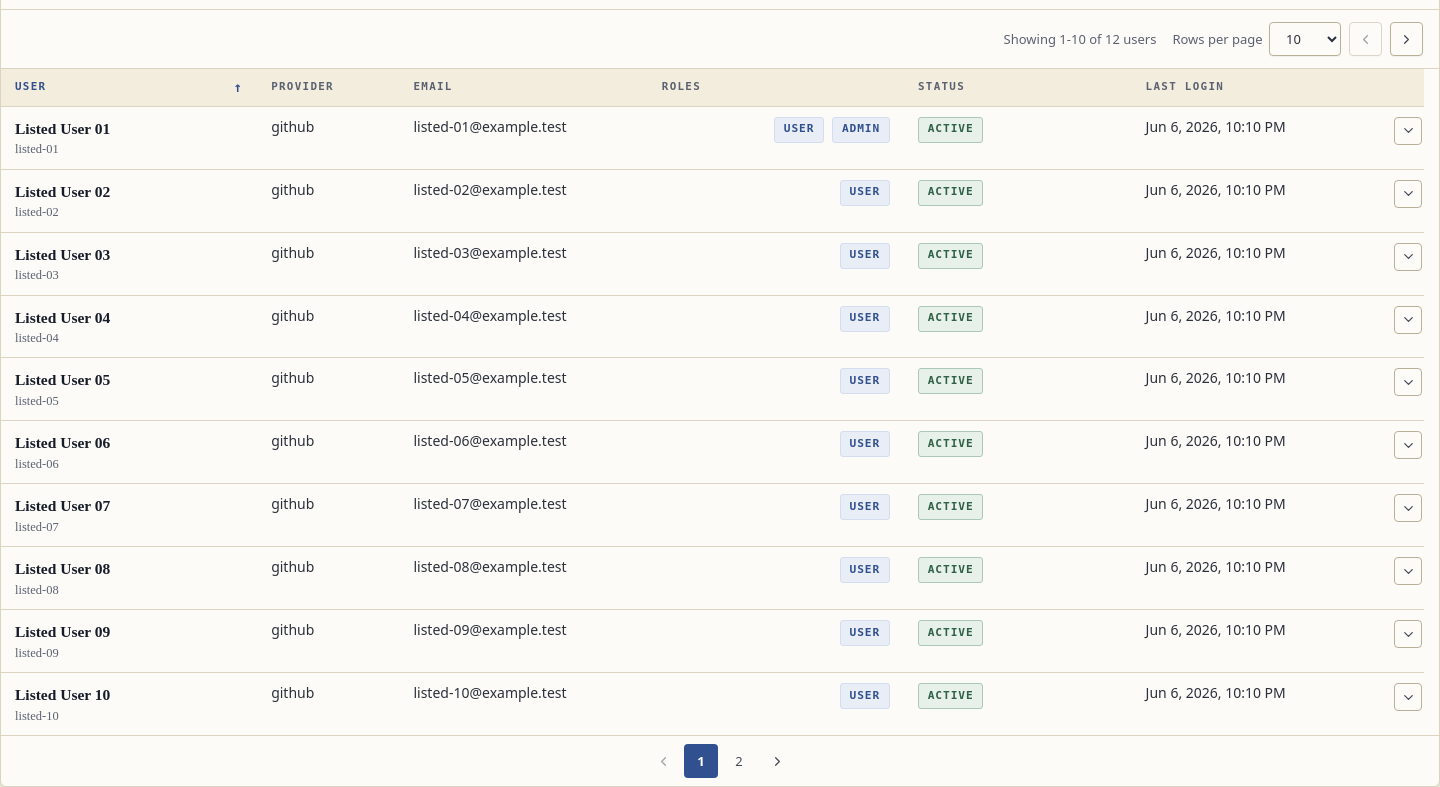
AdminUsersPage › filters, sorts, and paginates the user list client-side
This screenshot has width=1440, height=787.
(page scrolled)
Expected: the text "Listed User 01" is shown, [15,120,110,137]
Expected: the text "Showing 1-10 of 12 users" is shown, [1004,30,1156,49]
Click the button named "Page 2" at coordinates (739, 761), box [722,744,756,778]
(page scrolled)
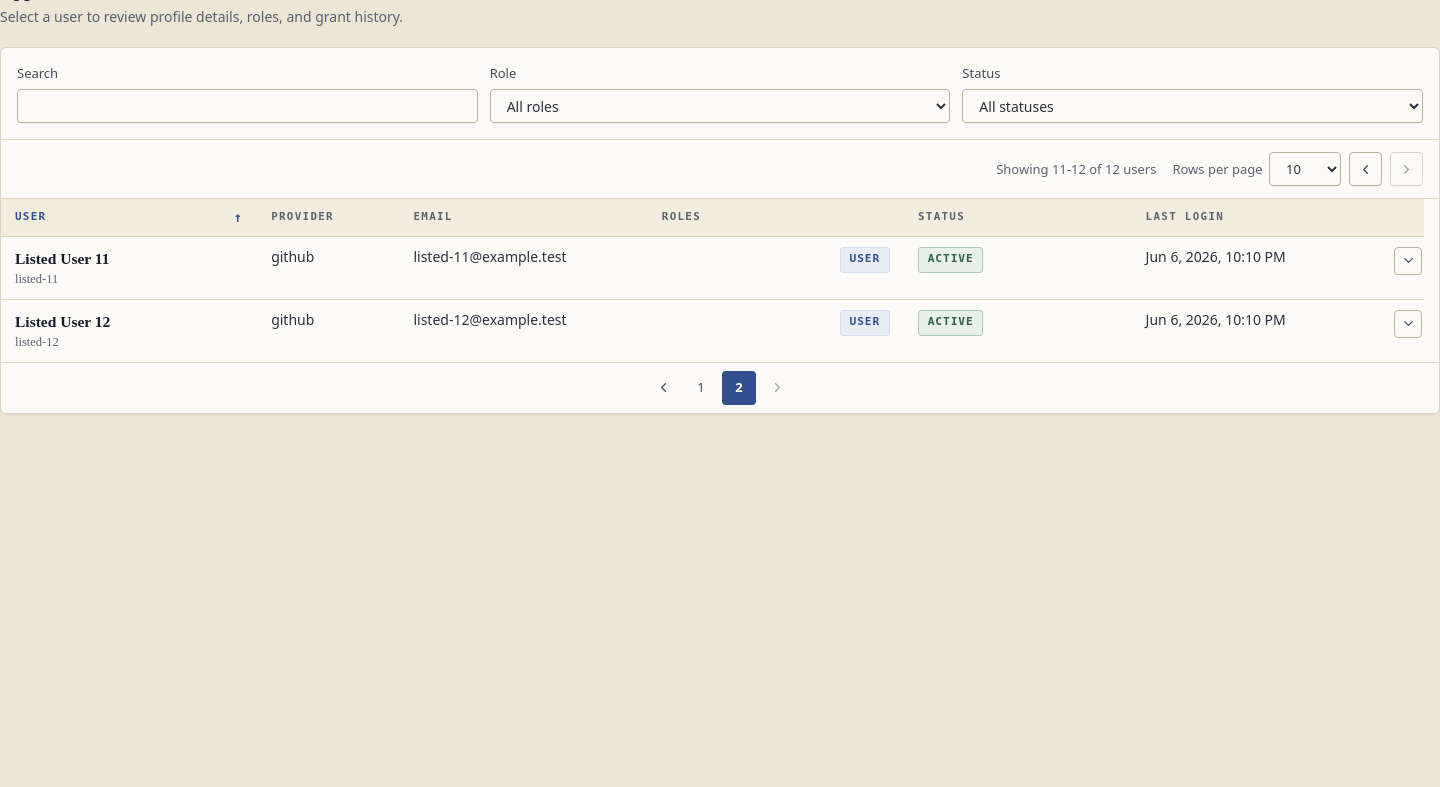
Expected: the text "Listed User 11" is shown, [15,250,110,267]
Expected: the text "Showing 11-12 of 12 users" is shown, [996,160,1156,179]
Click the button named "Sort by User; currently ascending. Activate to sort descending." at coordinates (129, 217), box [1,199,257,236]
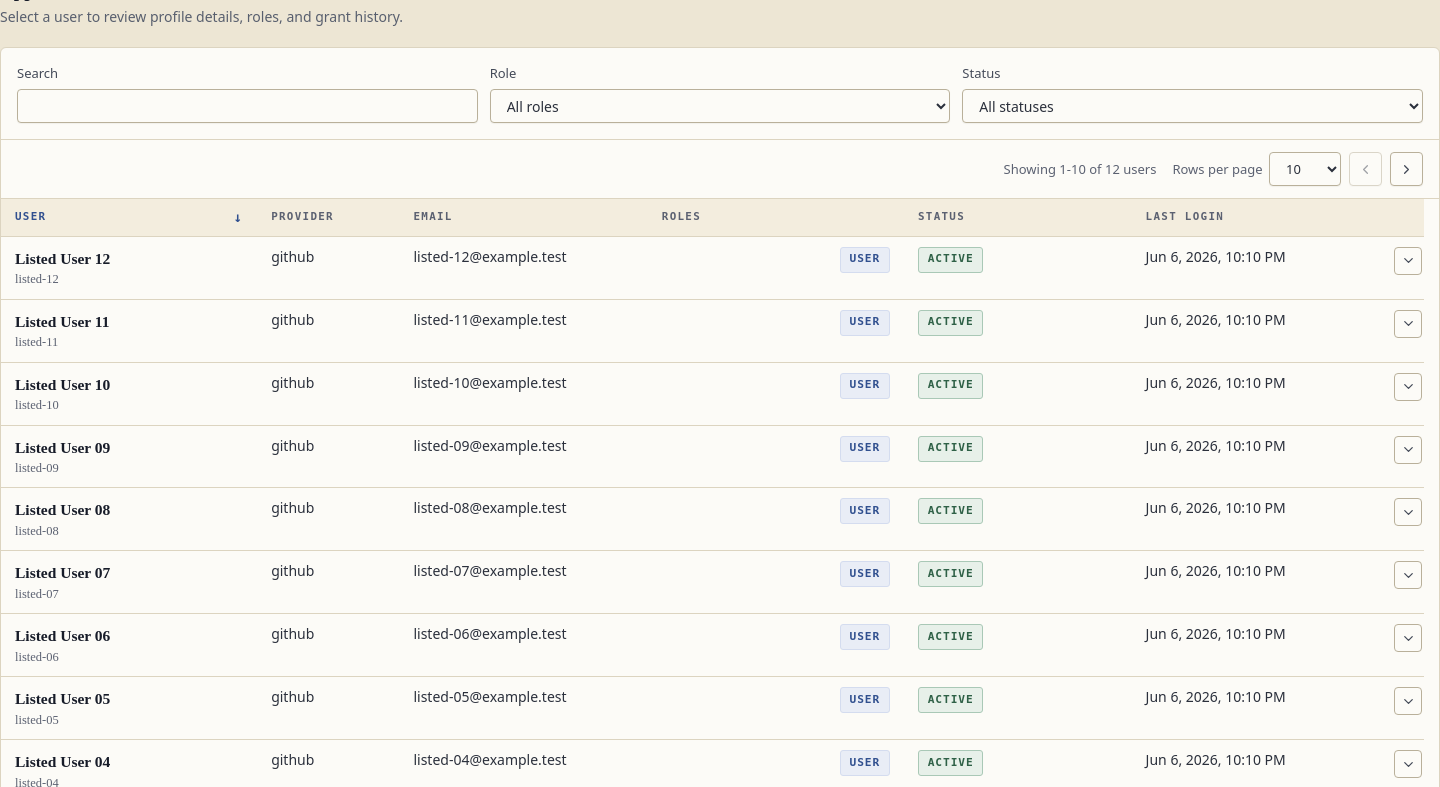
Expected: the text "Listed User 12" is shown, [15,250,110,267]
Expected: the text "Showing 1-10 of 12 users" is shown, [1004,160,1156,179]
Select "ADMIN" in the dropdown labelled "Role" at coordinates (720, 106), box [490,89,950,123]
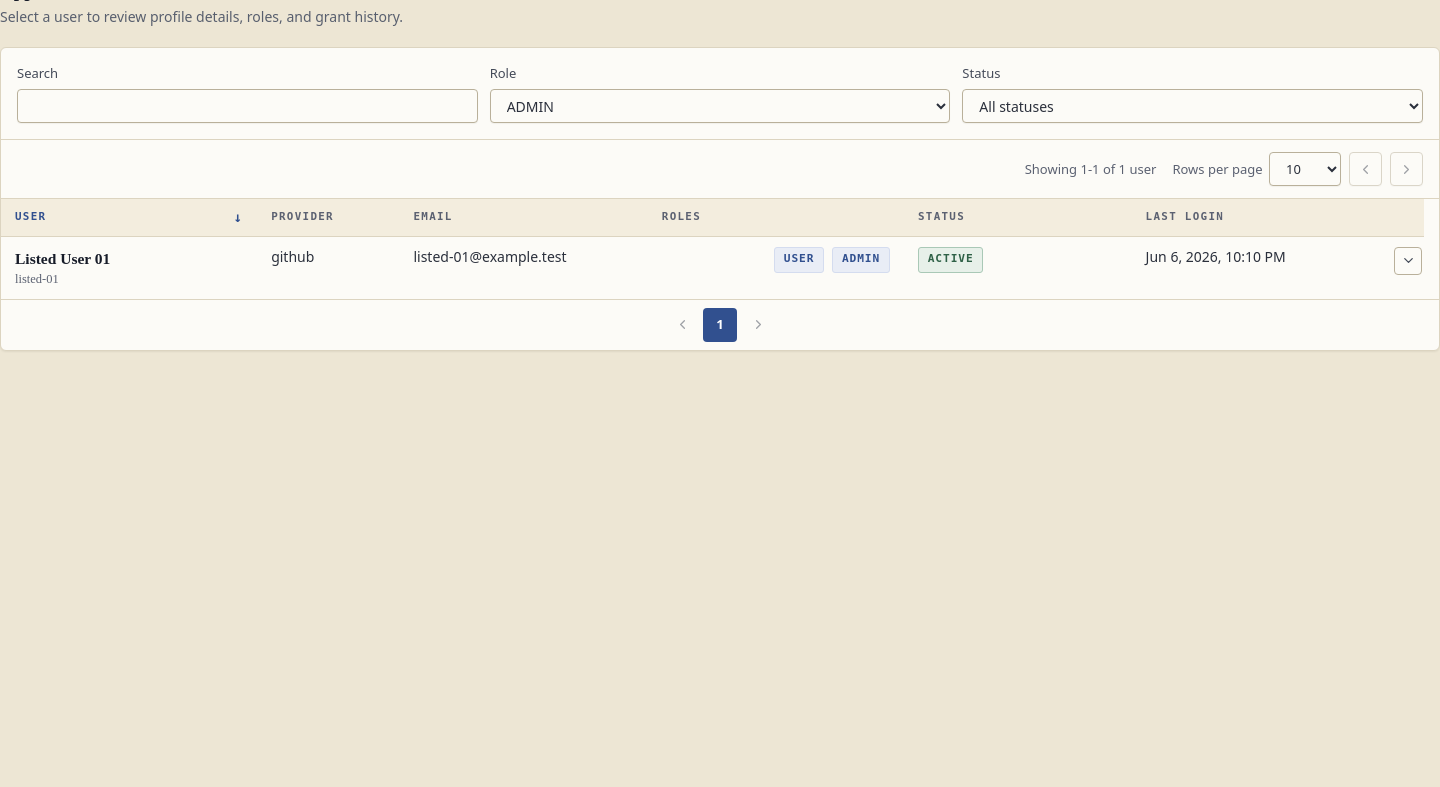
Expected: the text "Showing 1-1 of 1 user" is shown, [1025,160,1156,179]
Expected: the text "Listed User 01" is shown, [15,250,110,267]
Select "All roles" in the dropdown labelled "Role" at coordinates (720, 106), box [490,89,950,123]
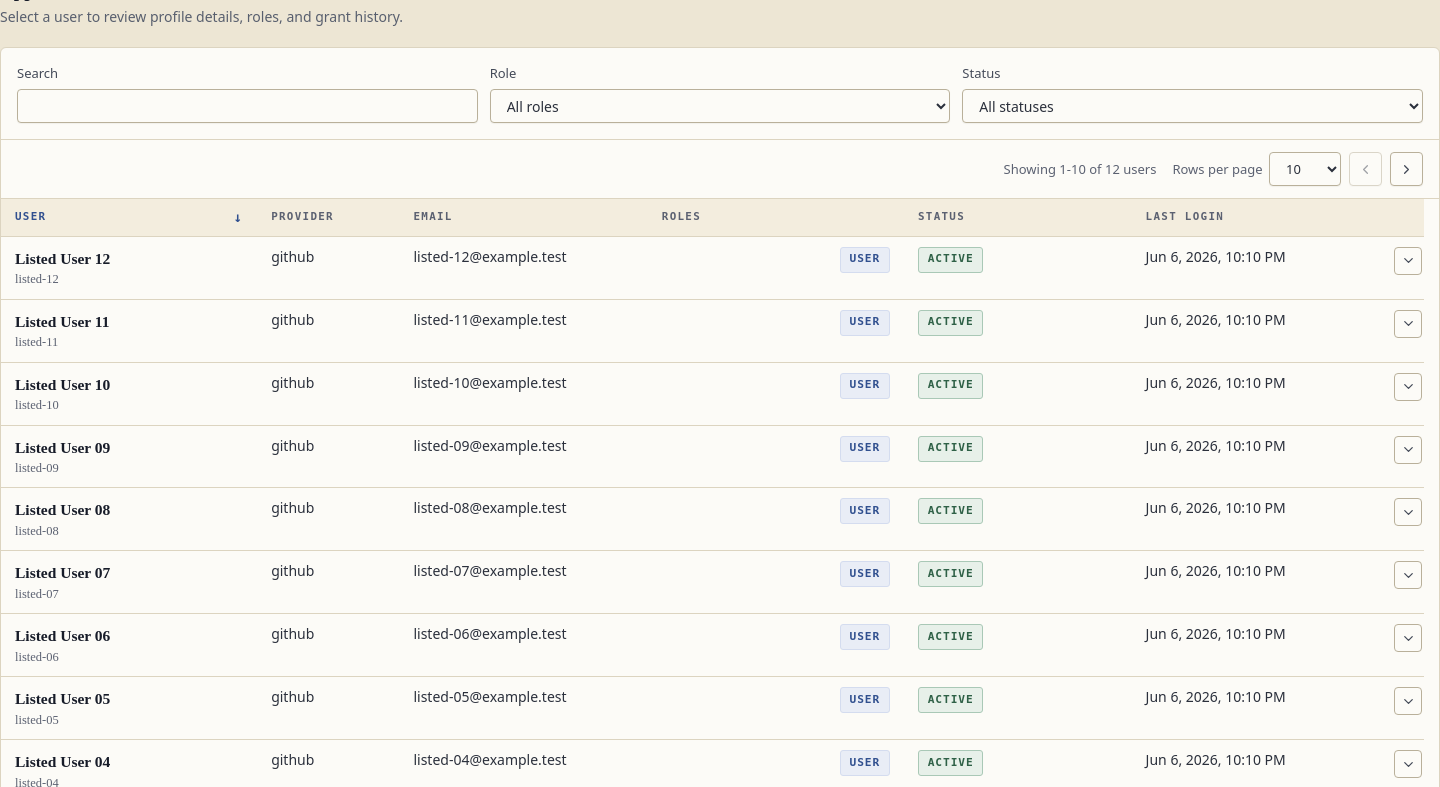
Type "listed-07" into the search field labelled "Search" at coordinates (247, 106), box [17,89,478,123]
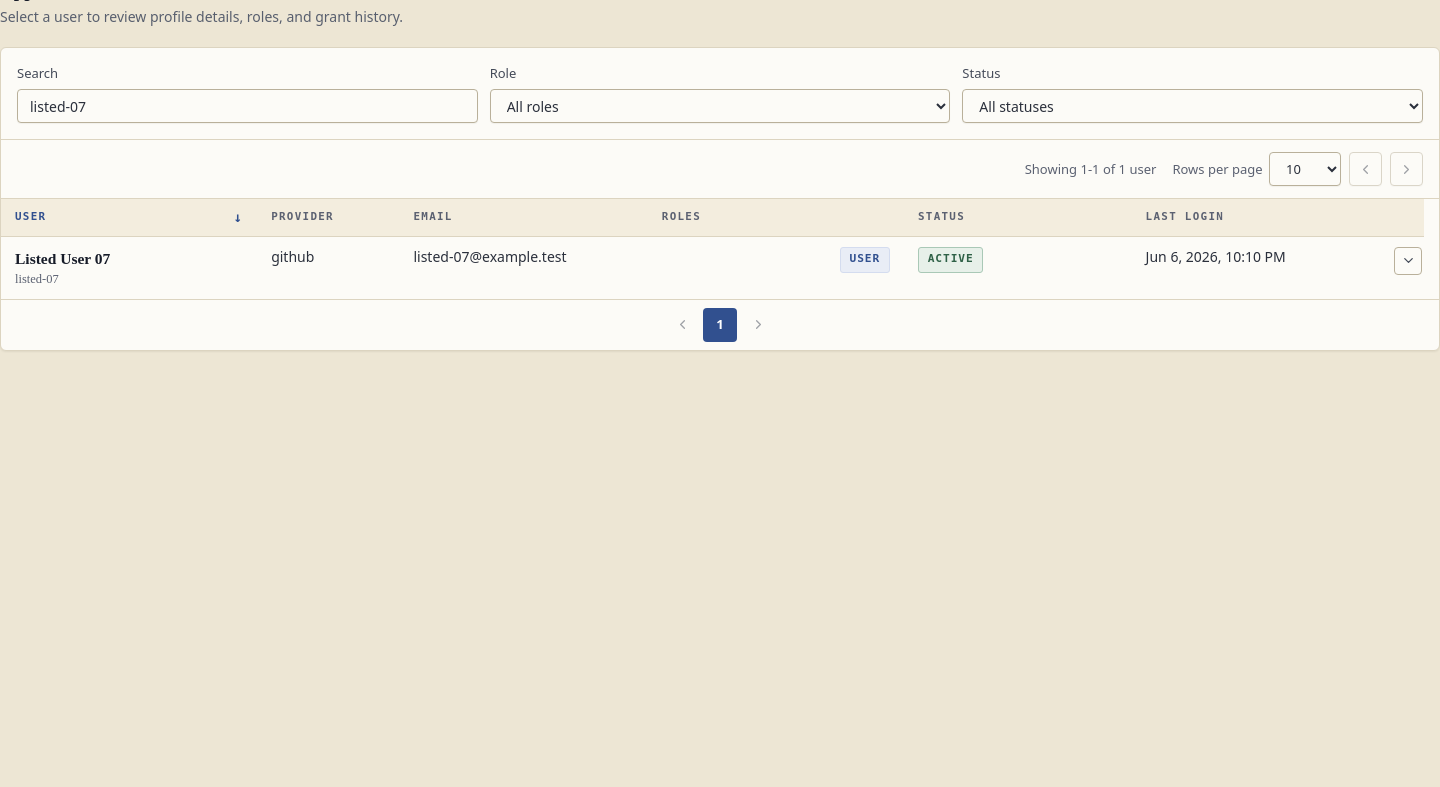
Expected: the text "Listed User 07" is shown, [15,250,110,267]
Expected: the text "Showing 1-1 of 1 user" is shown, [1025,160,1156,179]
Expected: the text "Listed User 12" is gone
